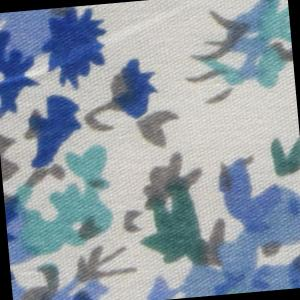Wrinkle: (1, 1, 202, 96)
